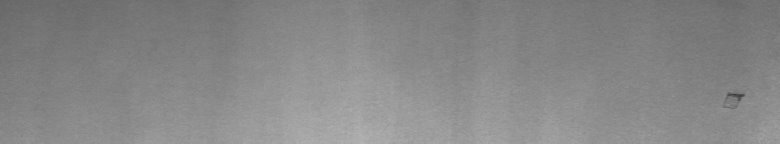fi: (724, 84, 747, 112)
